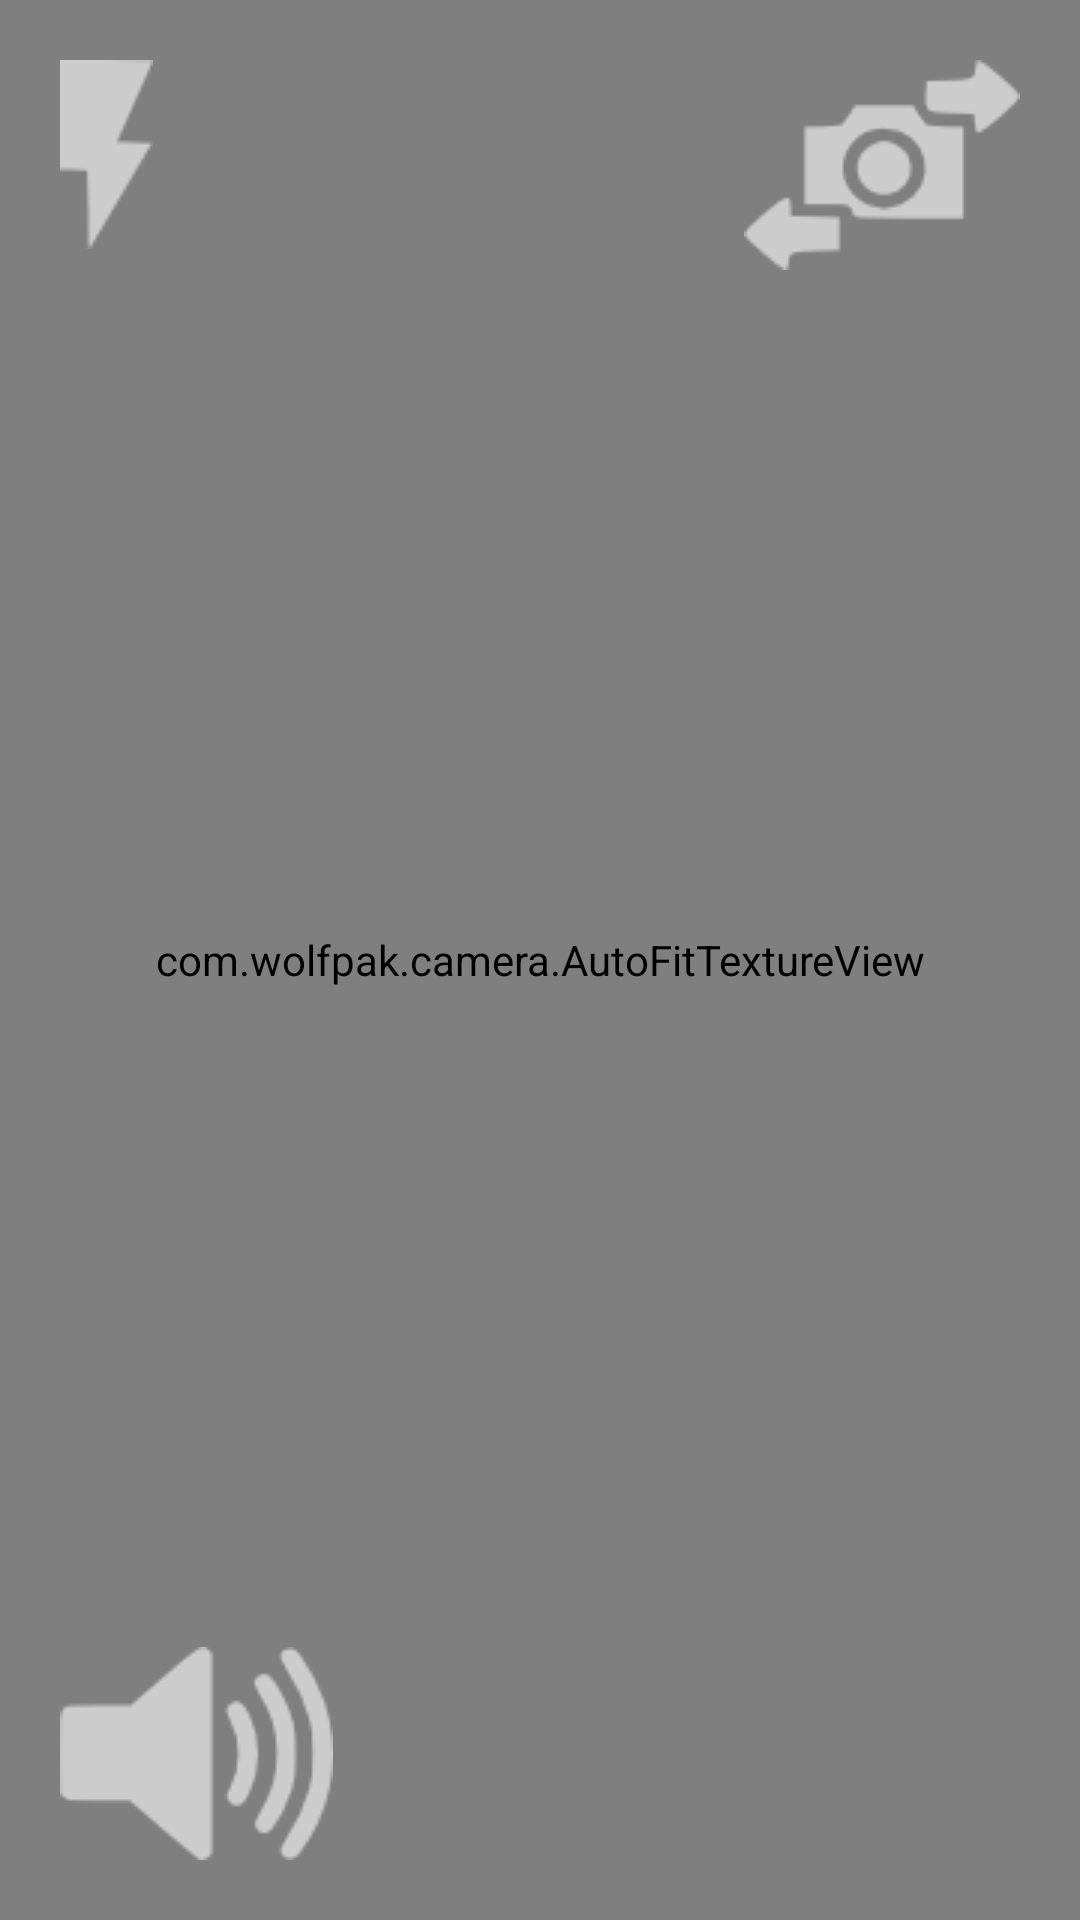

Point at icon controls on the screen. Image size 1080px x 1920px, points as (x=x, y=y).
flash: (x=106, y=153)
sound: (x=196, y=1753)
switch camera: (x=882, y=165)
